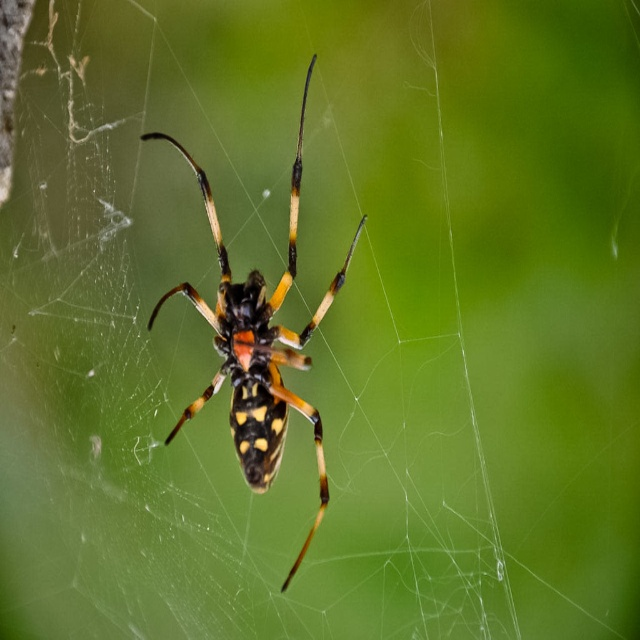Spider: (141, 54, 368, 594)
